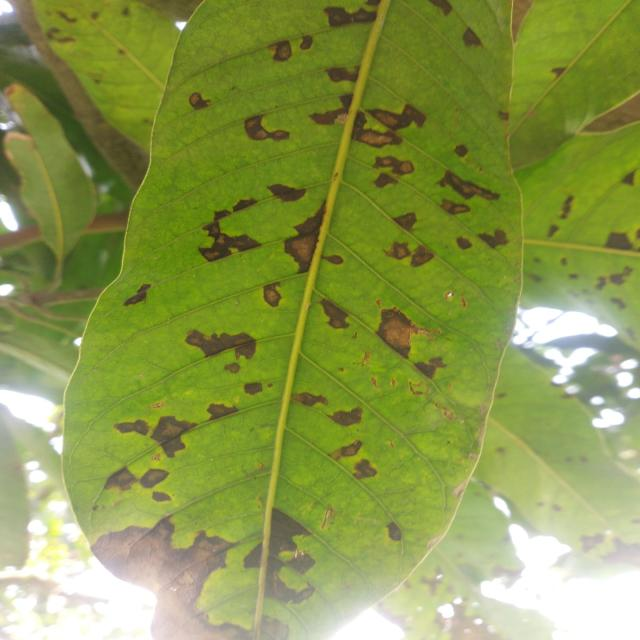Anthracnose: (91, 516, 251, 639), (265, 509, 317, 604), (368, 295, 439, 364), (191, 208, 259, 269), (278, 195, 327, 276), (346, 111, 405, 160), (437, 167, 500, 212), (146, 408, 197, 462), (309, 90, 363, 137), (208, 218, 259, 259), (367, 101, 428, 135), (186, 330, 254, 356), (312, 296, 354, 334), (210, 193, 257, 223), (102, 464, 139, 501), (243, 113, 290, 142), (285, 234, 317, 273), (373, 151, 415, 179), (324, 4, 377, 26), (603, 536, 640, 567), (122, 280, 156, 313), (415, 348, 448, 381), (138, 460, 170, 493), (329, 438, 365, 465), (327, 406, 365, 429), (405, 242, 435, 271), (205, 396, 238, 421), (44, 25, 77, 48), (607, 263, 636, 288), (291, 390, 329, 409), (478, 228, 509, 251), (185, 89, 212, 115), (268, 38, 295, 64), (260, 282, 285, 310), (268, 184, 306, 201), (113, 418, 150, 435), (459, 26, 483, 52), (394, 210, 420, 234), (326, 66, 360, 83), (439, 199, 471, 217), (353, 458, 378, 480), (605, 232, 634, 250), (581, 533, 605, 553), (384, 242, 411, 259), (55, 7, 78, 26), (429, 0, 455, 16), (620, 170, 640, 190), (320, 506, 336, 531), (386, 520, 403, 543), (454, 233, 473, 252), (560, 194, 574, 219), (243, 381, 263, 397), (373, 174, 397, 187), (299, 33, 315, 52), (453, 142, 470, 159), (610, 294, 627, 311), (224, 359, 242, 375), (550, 62, 567, 78), (545, 222, 560, 239), (410, 381, 428, 395), (147, 400, 166, 411), (323, 255, 343, 265), (152, 492, 171, 501), (498, 111, 509, 121), (459, 296, 468, 308), (121, 6, 131, 16), (90, 11, 100, 20)
